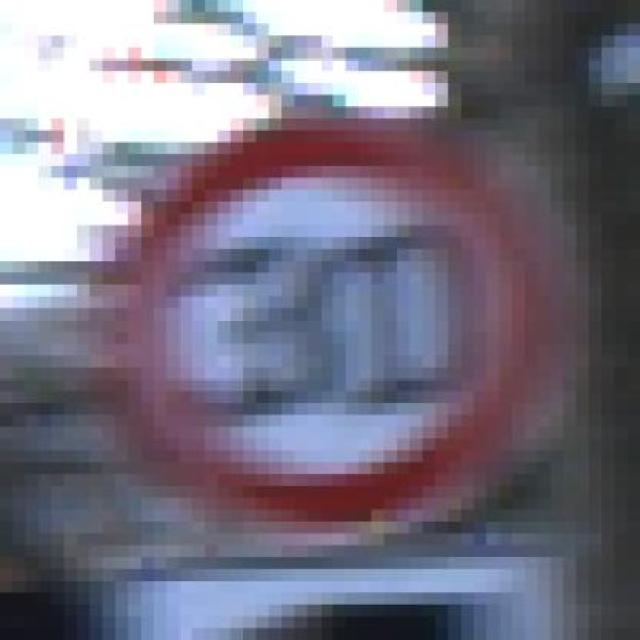Speed Limit 30 KMPh: (51, 83, 602, 534)
